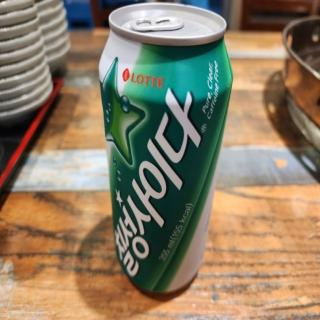chilsung: (97, 0, 233, 297)
